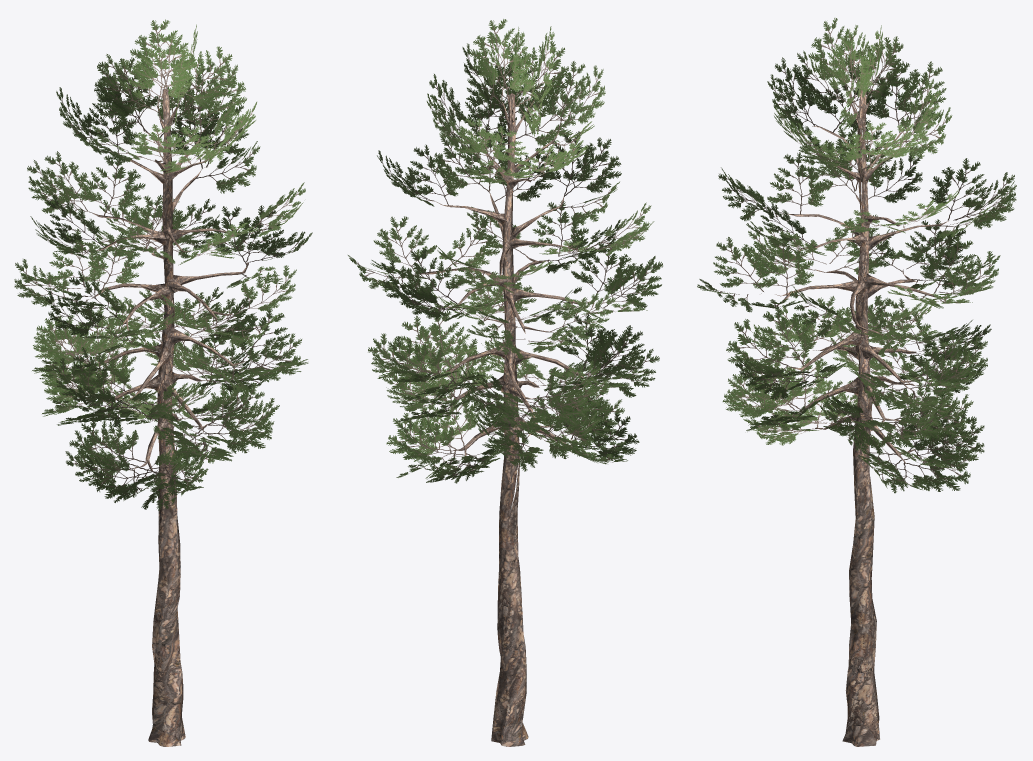
The model's file is Kiefer.glb.
The picture shows the model from 3 angles, left to right: view 1: azimuth 30°, elevation 25°; view 2: azimuth 150°, elevation 25°; view 3: azimuth 270°, elevation 25°; orthographic projection.
Visible parts, largest first — view 1: Kiefer; view 2: Kiefer; view 3: Kiefer.
Part boxes in pixels (x1,y1,x2,y2): Kiefer: (14,19,312,746); Kiefer: (348,19,662,746); Kiefer: (697,18,1016,746).
Size of the model in its own units: 1.23 by 3 by 1.22.
2 materials, 2 textured.
